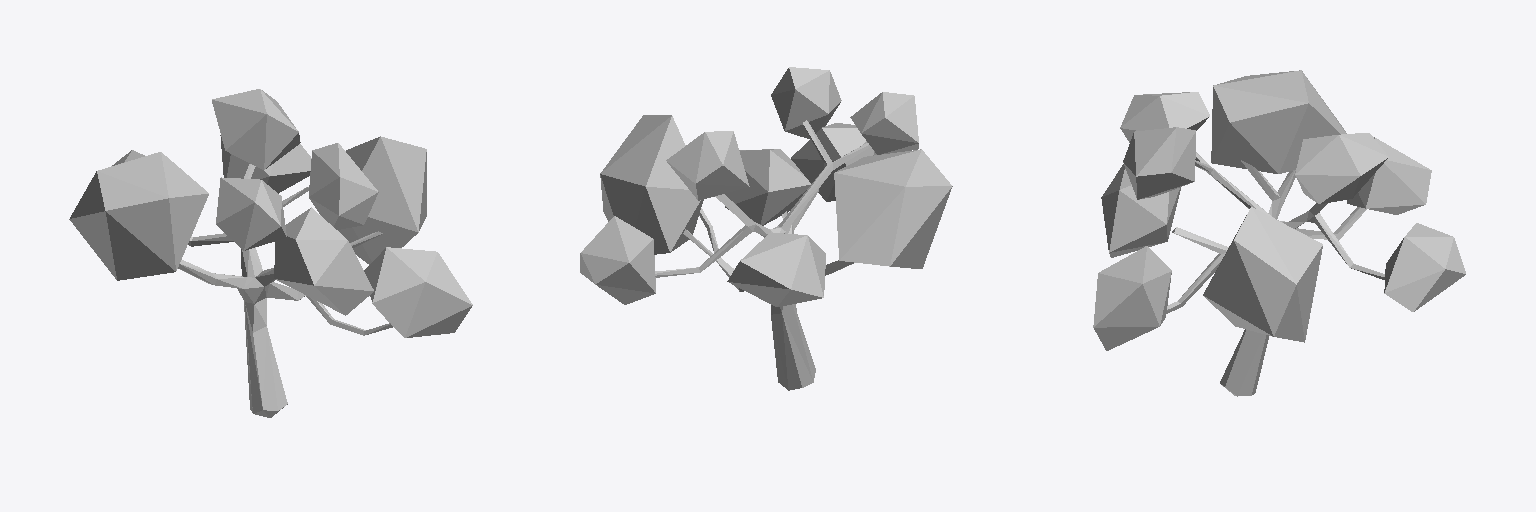
File: tree.obj
The picture shows the model from 3 angles: view 1: azimuth 30°, elevation 25°; view 2: azimuth 150°, elevation 25°; view 3: azimuth 270°, elevation 25°; orthographic projection.
Bounding box in the file's own units: 4.95 × 4.05 × 4.77.